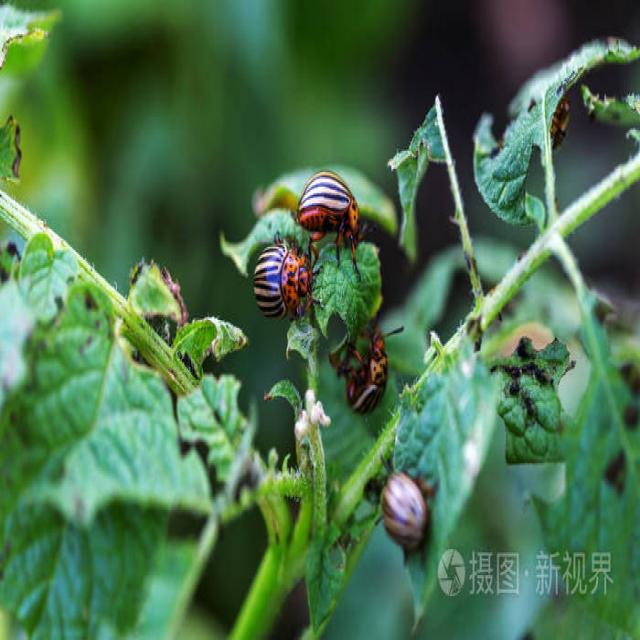ShuCaiHuaBanChong-Grown-: (248, 245, 334, 332), (373, 460, 438, 560), (292, 162, 369, 244)
